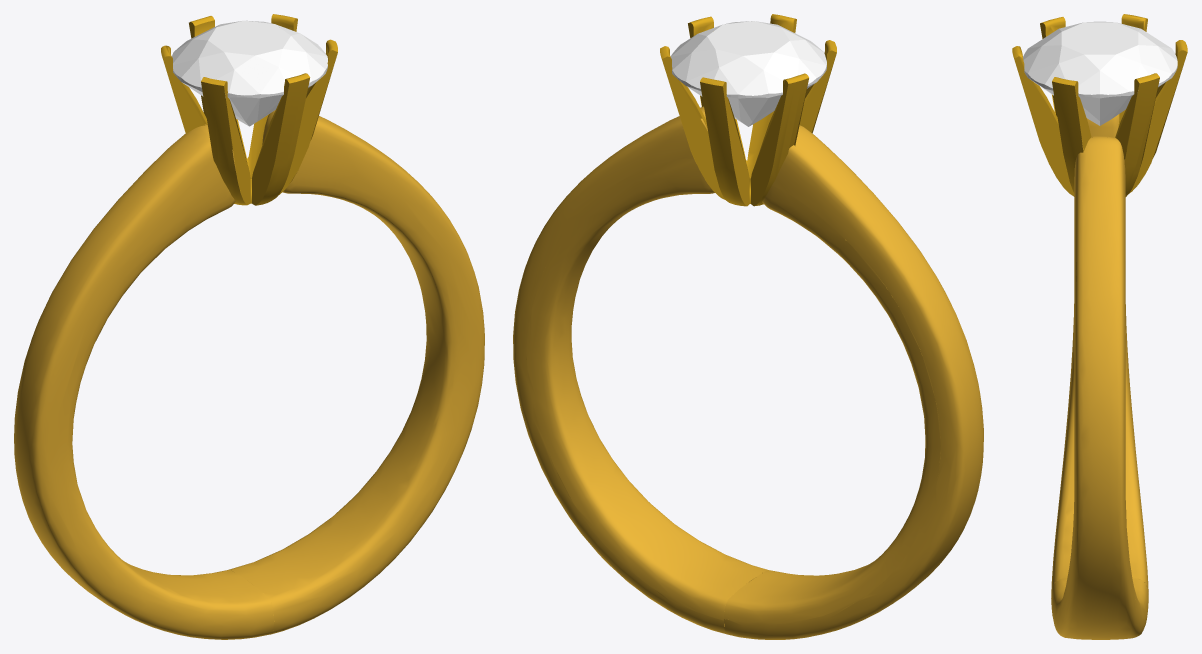
3 renders of one model, left to right at view 1: azimuth 30°, elevation 25°; view 2: azimuth 150°, elevation 25°; view 3: azimuth 270°, elevation 25°, orthographic.
Parts seen in each view (by area): view 1: Object_6, Object_4, Object_8, Object_36; view 2: Object_6, Object_4, Object_8, Object_36; view 3: Object_4, Object_8, Object_36, Object_6.
Part boxes in pixels (x1,y1,x2,y2): Object_6: (14,124,273,639); Object_4: (228,110,484,634); Object_8: (161,14,337,205); Object_36: (172,20,327,126); Object_6: (724,125,983,639); Object_4: (513,106,767,633); Object_8: (660,14,836,206); Object_36: (670,21,826,126); Object_4: (1051,136,1148,639); Object_8: (1012,14,1187,196); Object_36: (1023,21,1177,125); Object_6: (1051,114,1148,594).
Size of the model in its own units: 2.47 by 3.03 by 0.8338.
